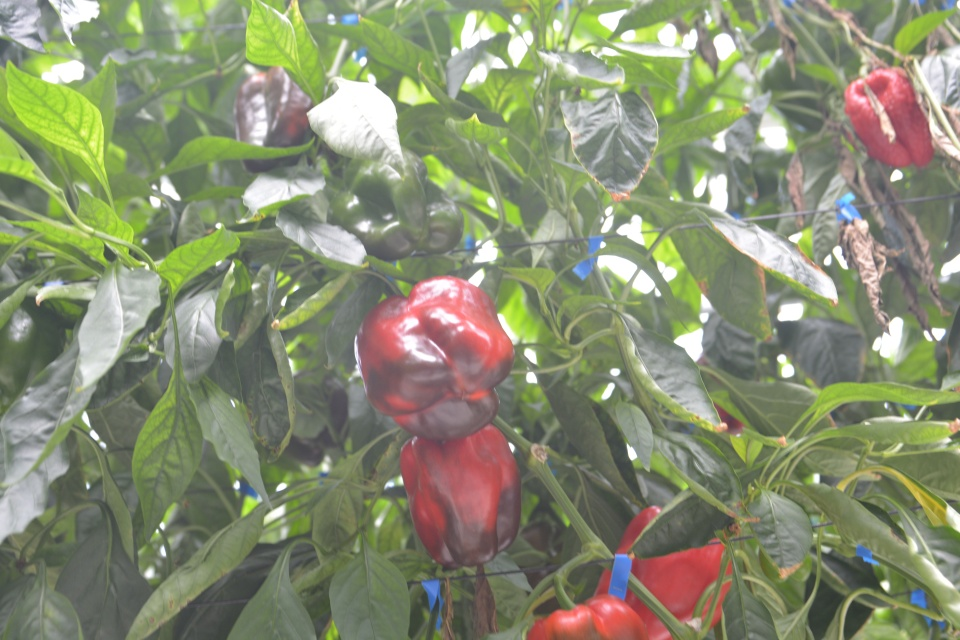fruit: (353, 278, 517, 447), (398, 421, 524, 572), (325, 140, 466, 262), (611, 508, 734, 640), (842, 61, 936, 169), (232, 63, 318, 175), (0, 292, 68, 399), (283, 375, 351, 466), (524, 592, 650, 640)
